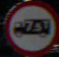Heavy Vehicles: (4, 5, 54, 44)
